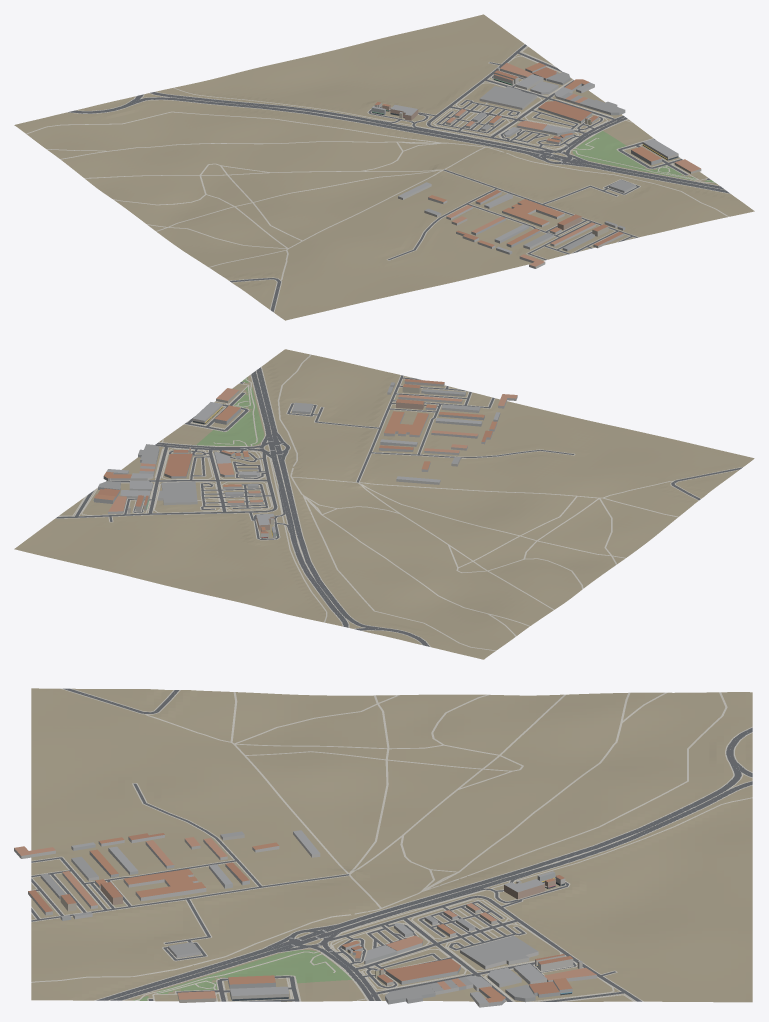
3 renders of one model, top to bottom at view 1: azimuth 30°, elevation 25°; view 2: azimuth 150°, elevation 25°; view 3: azimuth 270°, elevation 25°, orthographic. The views are drawn at different scales.
Parts seen in each view (by area): view 1: Ground, Sidewalk, Road, Roofs, Walls, Park; view 2: Ground, Sidewalk, Road, Roofs, Walls, Park; view 3: Ground, Sidewalk, Road, Roofs, Walls, Park.
Boxes of the visible parts, x1=… form: Ground: x1=14, y1=14, x2=754, y2=320; Sidewalk: x1=26, y1=44, x2=730, y2=312; Road: x1=68, y1=44, x2=729, y2=311; Roofs: x1=372, y1=62, x2=700, y2=266; Walls: x1=371, y1=66, x2=701, y2=268; Park: x1=572, y1=131, x2=716, y2=183; Ground: x1=14, y1=349, x2=754, y2=659; Sidewalk: x1=55, y1=354, x2=743, y2=650; Road: x1=56, y1=367, x2=742, y2=646; Roofs: x1=94, y1=379, x2=517, y2=533; Walls: x1=94, y1=381, x2=517, y2=538; Park: x1=196, y1=377, x2=264, y2=445; Ground: x1=31, y1=688, x2=752, y2=1002; Sidewalk: x1=31, y1=688, x2=752, y2=1001; Road: x1=31, y1=688, x2=752, y2=1001; Roofs: x1=14, y1=830, x2=596, y2=1003; Walls: x1=14, y1=832, x2=596, y2=1007; Park: x1=133, y1=950, x2=351, y2=1000.
Bounding box in the file's own units: 1018 × 19.17 × 1027.
